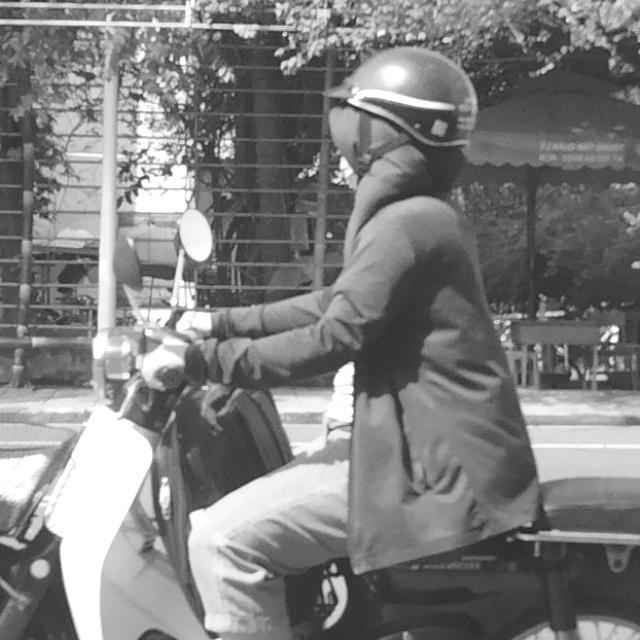Helmet: (323, 39, 478, 194)
